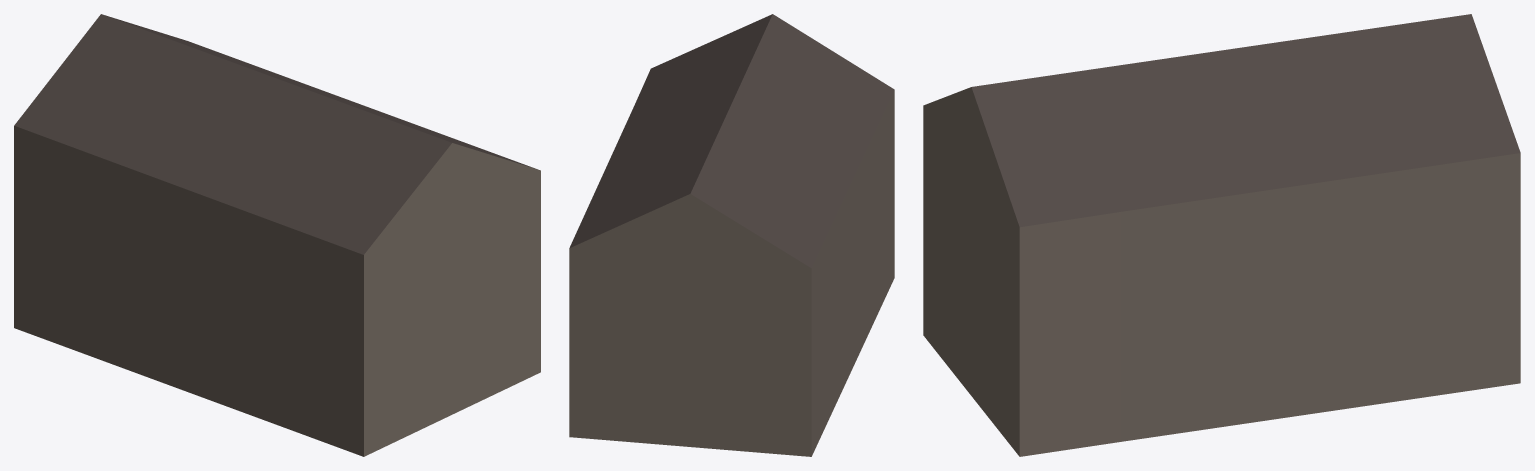
The picture shows the model from 3 angles, left to right: view 1: azimuth 30°, elevation 25°; view 2: azimuth 150°, elevation 25°; view 3: azimuth 270°, elevation 25°; orthographic projection. The views are drawn at different scales.
Parts seen in each view (by area): view 1: HP-w1198645088; view 2: HP-w1198645088; view 3: HP-w1198645088.
Boxes of the visible parts, <box> form: HP-w1198645088: <box>14,14,540,456</box>; HP-w1198645088: <box>569,14,894,456</box>; HP-w1198645088: <box>923,14,1520,456</box>.
Bounding box in the file's own units: 10.87 × 8.08 × 14.15.
